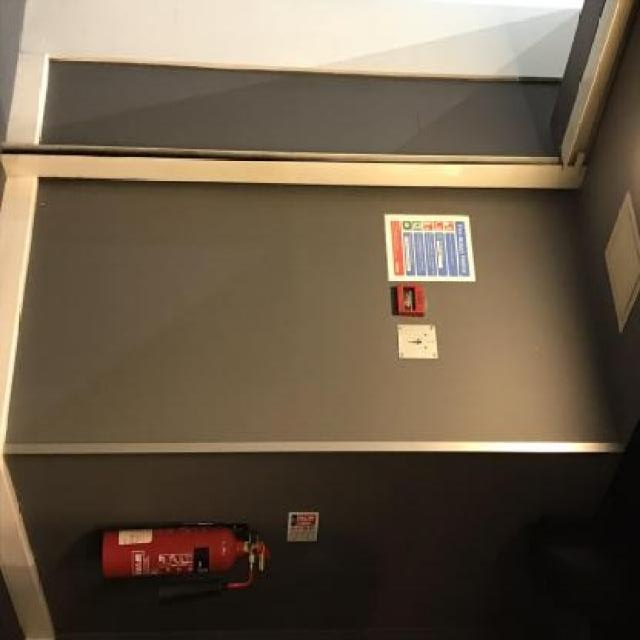fire extinguisher: (102, 526, 275, 597)
